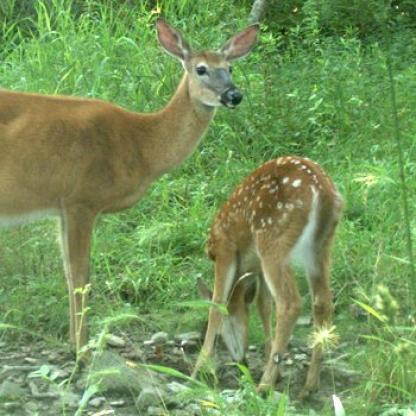Deer: (0, 19, 264, 371), (185, 153, 346, 406)
